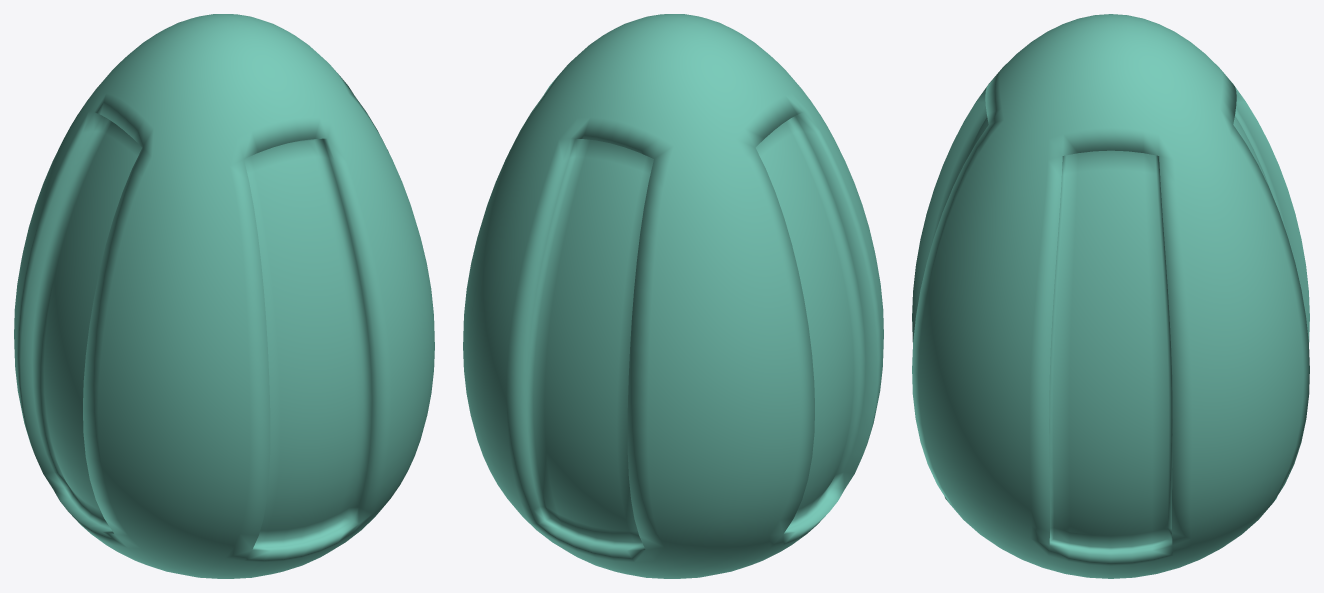
File: Slime Egg  New 4.fbx
The picture shows the model from 3 angles, left to right: view 1: azimuth 30°, elevation 25°; view 2: azimuth 150°, elevation 25°; view 3: azimuth 270°, elevation 25°; orthographic projection.
Visible parts, largest first — view 1: Slime Egg New.004; view 2: Slime Egg New.004; view 3: Slime Egg New.004.
Part boxes in pixels (x1,y1,x2,y2): Slime Egg New.004: [14, 14, 434, 578]; Slime Egg New.004: [463, 14, 883, 578]; Slime Egg New.004: [912, 14, 1309, 578].
Size of the model in its own units: 245 by 362 by 245.
